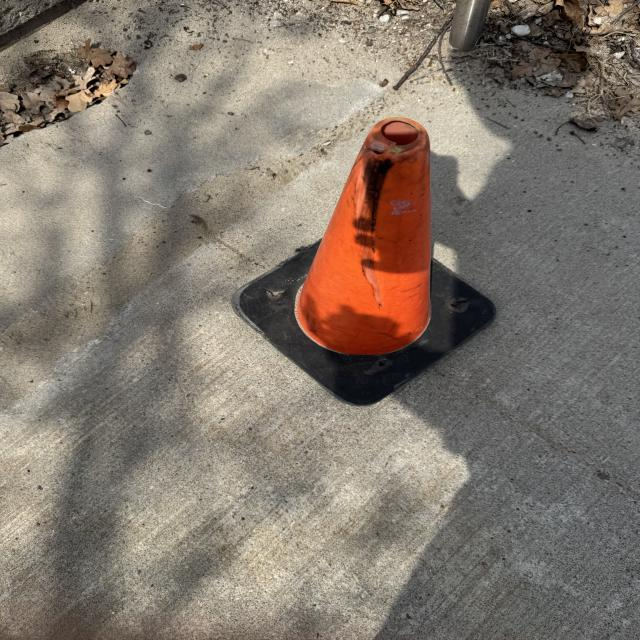Traffic Cone: (239, 114, 496, 406)
